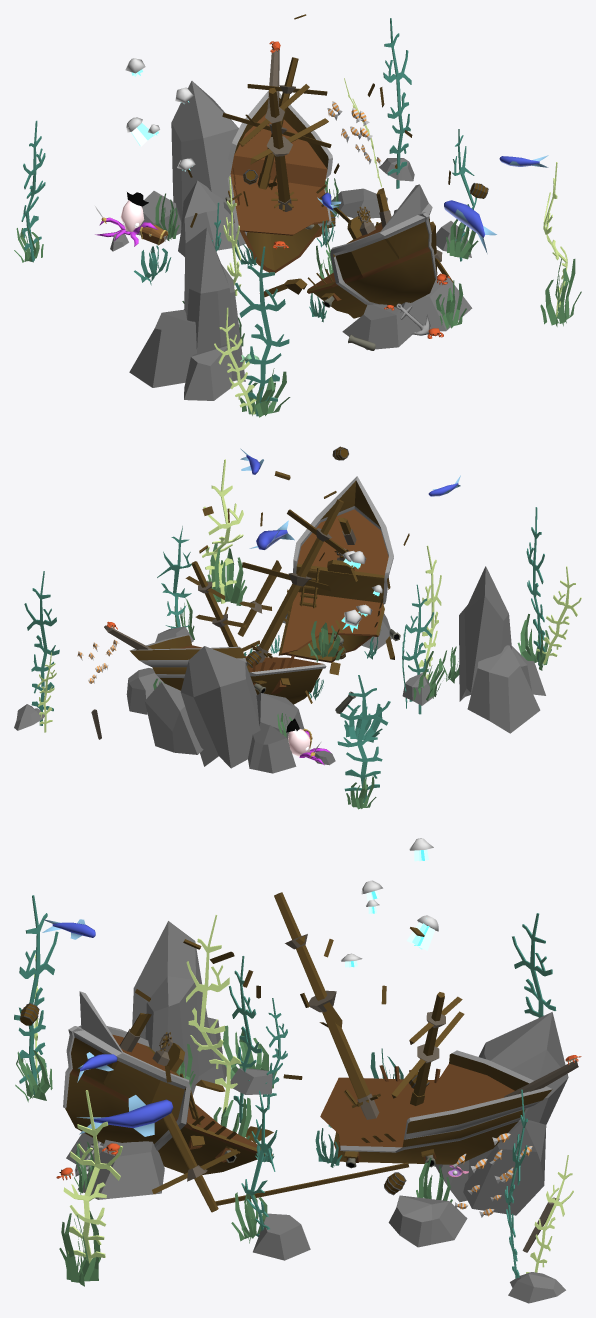
The model's file is sea.glb.
3 views of the same model, one above another, from view 1: azimuth 30°, elevation 25°; view 2: azimuth 150°, elevation 25°; view 3: azimuth 270°, elevation 25° (orthographic). The views are drawn at different scales.
Parts seen in each view (by area): view 1: Cube.002, Cube.001, Plane.036, Plane.045, Plane.044, Plane.043, Plane.046, Plane.038, Plane.007, Plane.039, Plane.005, Cube.005 (+16 smaller); view 2: Cube.001, Plane.036, Cube.002, Plane.045, Plane.044, Plane.030, Plane.048, Plane.002, Cube.005, Plane.006, Plane.043, Plane.063 (+20 smaller); view 3: Cube.002, Cube.001, Plane.045, Plane.036, Plane.030, Plane.039, Plane.041, Cube.005, Plane.006, Plane.003, Plane.007, Plane.040 (+21 smaller).
Part boxes in pixels (x1=…): Cube.002: x1=227, y1=90, x2=332, y2=273; Cube.001: x1=307, y1=184, x2=437, y2=318; Plane.036: x1=171, y1=81, x2=238, y2=225; Plane.045: x1=184, y1=228, x2=245, y2=381; Plane.044: x1=129, y1=309, x2=196, y2=387; Plane.043: x1=178, y1=180, x2=245, y2=256; Plane.046: x1=184, y1=344, x2=232, y2=400; Plane.038: x1=342, y1=304, x2=415, y2=349; Plane.007: x1=235, y1=246, x2=289, y2=416; Plane.039: x1=395, y1=276, x2=472, y2=332; Plane.005: x1=383, y1=18, x2=411, y2=188; Cube.005: x1=268, y1=87, x2=291, y2=211; Cube.001: x1=278, y1=476, x2=393, y2=662; Plane.036: x1=180, y1=646, x2=260, y2=768; Cube.002: x1=129, y1=635, x2=326, y2=704; Plane.045: x1=459, y1=566, x2=511, y2=701; Plane.044: x1=467, y1=645, x2=540, y2=733; Plane.030: x1=144, y1=682, x2=203, y2=754; Plane.048: x1=248, y1=725, x2=296, y2=773; Plane.002: x1=337, y1=675, x2=390, y2=802; Cube.005: x1=255, y1=499, x2=343, y2=662; Plane.006: x1=202, y1=459, x2=243, y2=603; Plane.043: x1=256, y1=693, x2=304, y2=739; Plane.063: x1=207, y1=543, x2=247, y2=605; Cube.002: x1=320, y1=1050, x2=552, y2=1164; Cube.001: x1=63, y1=991, x2=273, y2=1174; Plane.045: x1=132, y1=921, x2=215, y2=1095; Plane.036: x1=435, y1=1012, x2=568, y2=1202; Plane.030: x1=463, y1=1119, x2=546, y2=1215; Plane.039: x1=77, y1=1140, x2=164, y2=1199; Plane.041: x1=388, y1=1195, x2=467, y2=1247; Cube.005: x1=274, y1=892, x2=379, y2=1119; Plane.006: x1=63, y1=1090, x2=122, y2=1263; Plane.003: x1=186, y1=915, x2=241, y2=1112; Plane.007: x1=14, y1=895, x2=58, y2=1094; Plane.040: x1=253, y1=1213, x2=310, y2=1260.
Size of the model in its own units: 33.81 by 19.19 by 33.38.
